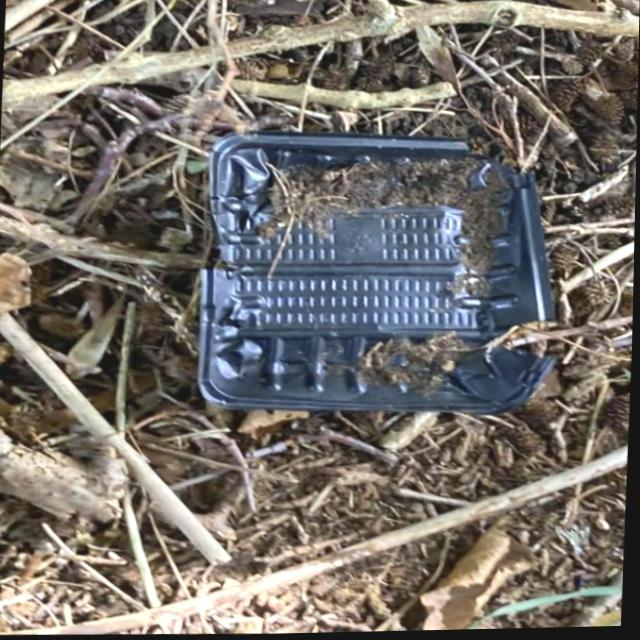Plastic: (193, 126, 571, 423)
